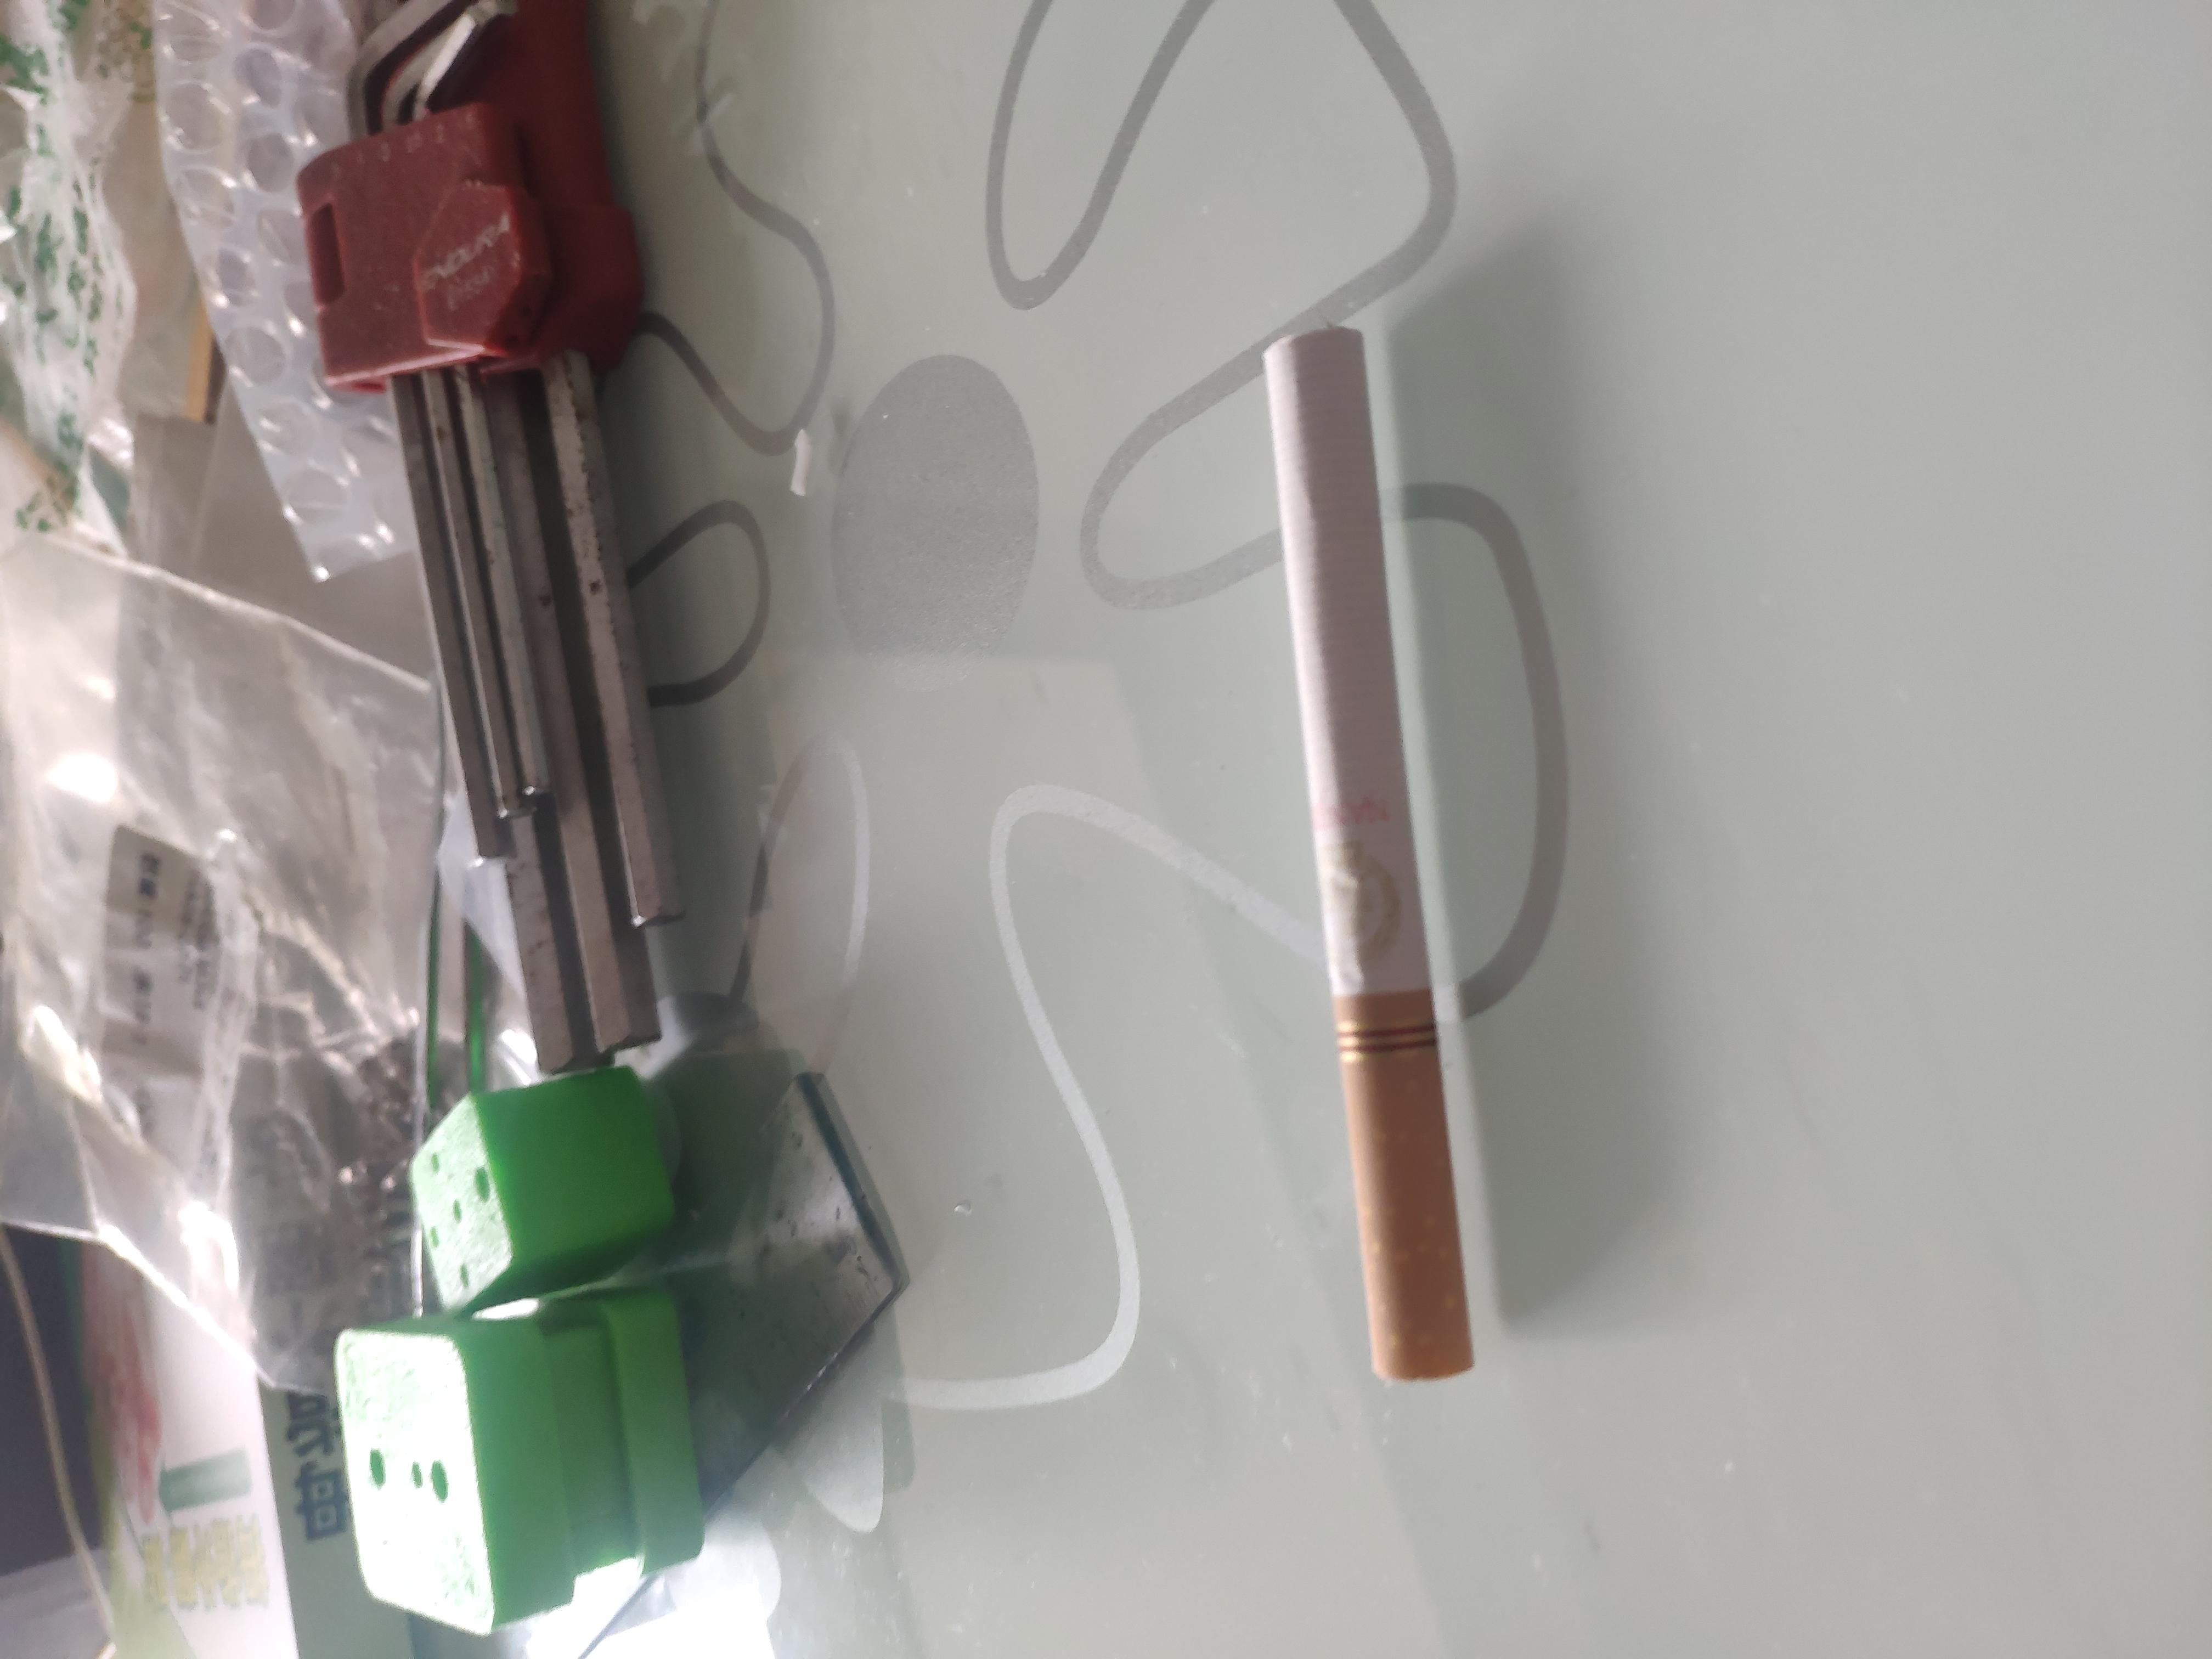smoke: (374, 945, 1782, 1105)
